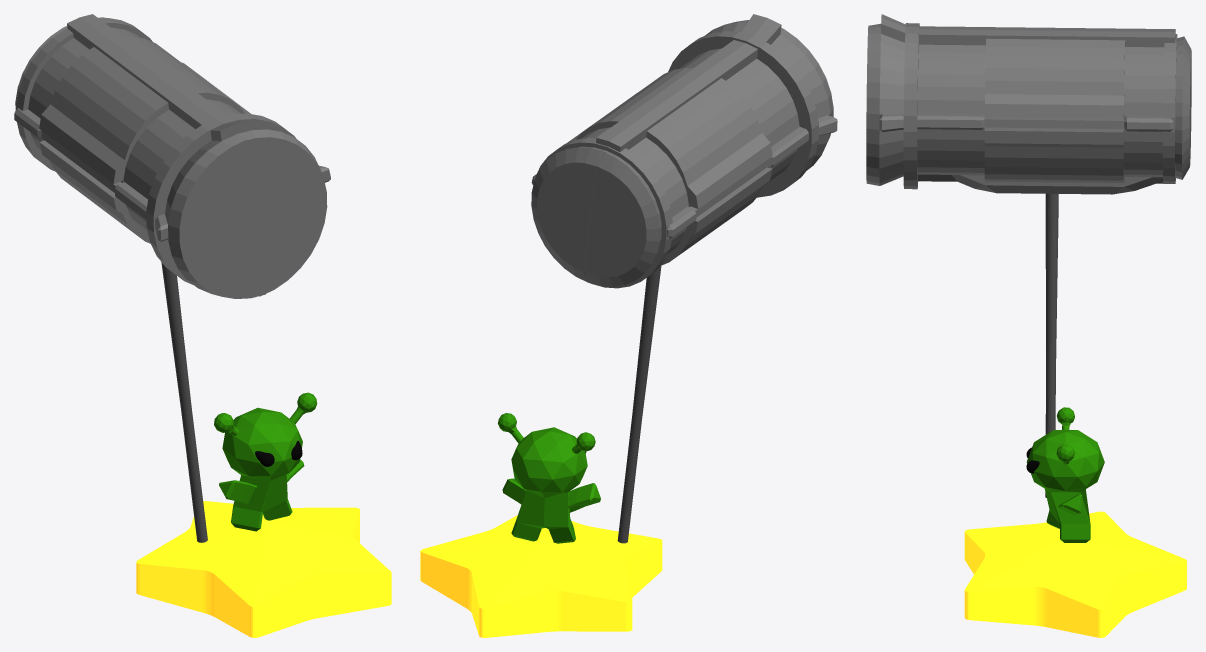
File: gleebo_the_destroyer_colored.glb
The picture shows the model from 3 angles, left to right: view 1: azimuth 30°, elevation 25°; view 2: azimuth 150°, elevation 25°; view 3: azimuth 270°, elevation 25°; orthographic projection. The views are drawn at different scales.
Visible parts, largest first — view 1: hammer, star, antenna, hammer staff, gleebo.001, arms; view 2: hammer, star, antenna, hammer staff, gleebo.001, arms; view 3: hammer, star, antenna, hammer staff, gleebo.001.
Part boxes in pixels (x1,y1,x2,y2): hammer: [14, 14, 330, 298]; star: [136, 501, 391, 637]; antenna: [214, 392, 317, 480]; hammer staff: [161, 262, 207, 542]; gleebo.001: [231, 474, 292, 531]; arms: [219, 480, 257, 504]; hammer: [531, 14, 837, 288]; star: [420, 515, 662, 637]; antenna: [498, 413, 595, 497]; hammer staff: [617, 266, 661, 543]; gleebo.001: [511, 490, 575, 543]; arms: [568, 483, 600, 512]; hammer: [866, 14, 1191, 194]; star: [964, 511, 1186, 637]; antenna: [1026, 407, 1104, 492]; hammer staff: [1045, 193, 1058, 497]; gleebo.001: [1045, 489, 1090, 542].
Size of the model in its own units: 14 by 24.66 by 13.56.
